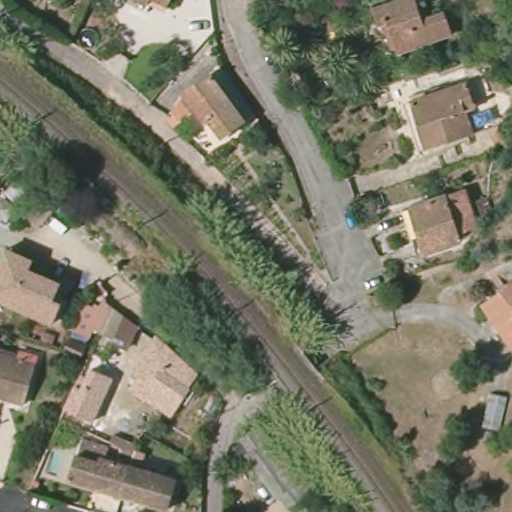pool: (469, 105, 500, 136), (43, 444, 69, 480)
